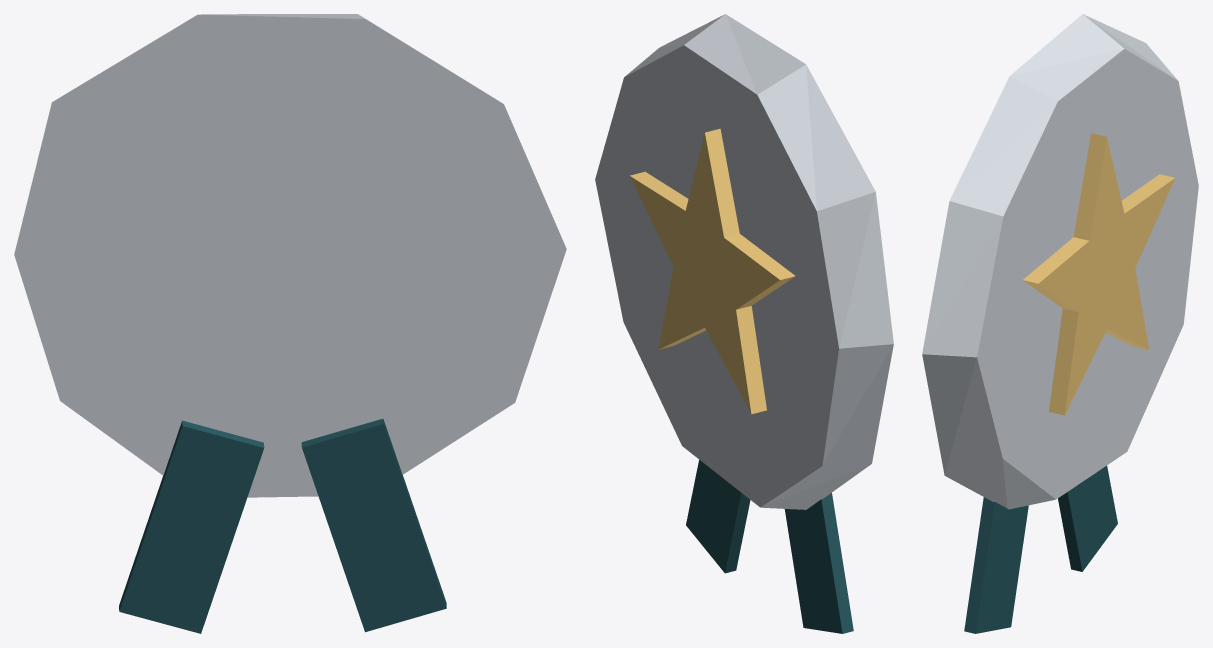
The model's file is Seal.obj.
3 renders of one model, left to right at view 1: azimuth 30°, elevation 25°; view 2: azimuth 150°, elevation 25°; view 3: azimuth 270°, elevation 25°, orthographic. The views are drawn at different scales.
Size of the model in its own units: 1.73 by 2.37 by 1.07.
